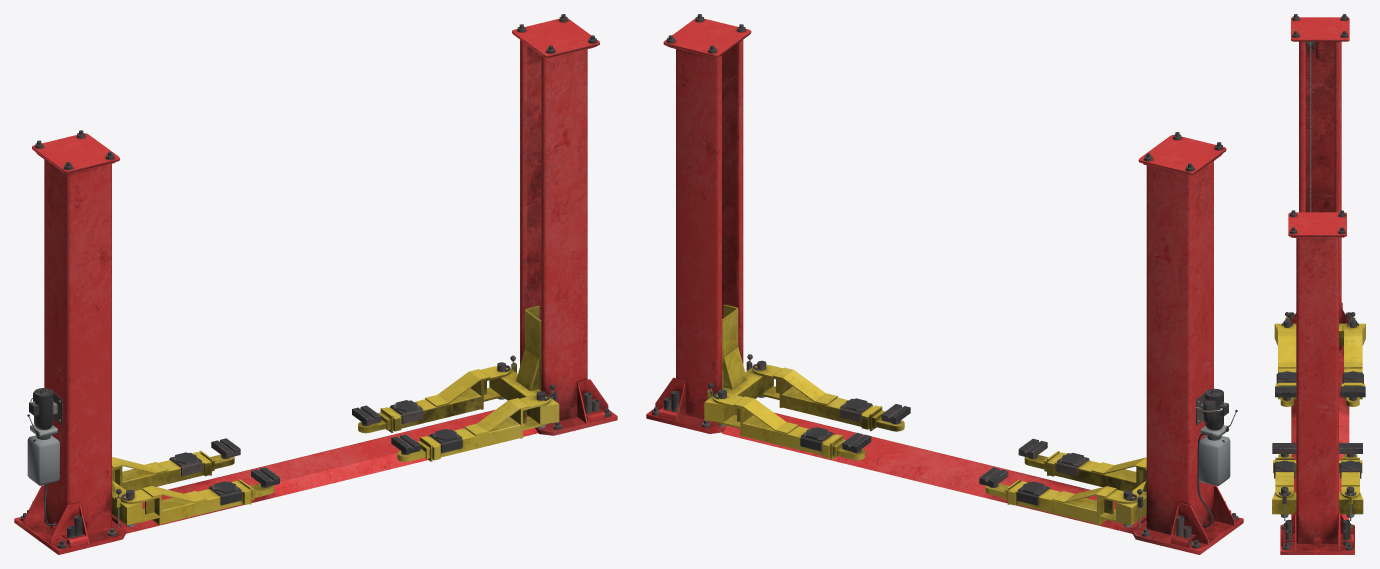
File: CarLift 1.fbx
3 renders of one model, left to right at view 1: azimuth 30°, elevation 25°; view 2: azimuth 150°, elevation 25°; view 3: azimuth 270°, elevation 25°, orthographic. The views are drawn at different scales.
Parts seen in each view (by area): view 1: rack, rack.002, arrival, rack.011, rack.009, rack.005, rack.006, switch, rack.008, rack.004; view 2: rack, rack.002, arrival, rack.009, rack.011, rack.005, rack.008, switch, rack.006, rack.004; view 3: rack.002, rack, rack.008, rack.006, rack.005, arrival, rack.011, rack.009, rack.004, rack.019, rack.013, rack.016 (+1 smaller).
Boxes of the visible parts, left/top/right/bottom form: rack: left=14, top=130, right=126, bottom=554; rack.002: left=512, top=14, right=617, bottom=435; arrival: left=112, top=409, right=537, bottom=533; rack.011: left=420, top=395, right=550, bottom=461; rack.009: left=380, top=366, right=511, bottom=432; rack.005: left=489, top=305, right=559, bottom=428; rack.006: left=120, top=479, right=251, bottom=525; switch: left=27, top=388, right=62, bottom=525; rack.008: left=112, top=450, right=211, bottom=490; rack.004: left=111, top=479, right=142, bottom=527; rack: left=1132, top=132, right=1243, bottom=554; rack.002: left=646, top=14, right=751, bottom=433; arrival: left=722, top=412, right=1146, bottom=533; rack.009: left=712, top=393, right=842, bottom=459; rack.011: left=752, top=364, right=882, bottom=431; rack.005: left=704, top=304, right=773, bottom=426; rack.008: left=1007, top=479, right=1137, bottom=525; switch: left=1195, top=388, right=1230, bottom=526; rack.006: left=1047, top=451, right=1146, bottom=491; rack.004: left=1116, top=479, right=1146, bottom=527; rack.002: left=1280, top=210, right=1354, bottom=554; rack: left=1288, top=14, right=1352, bottom=354; rack.008: left=1341, top=324, right=1364, bottom=399; rack.006: left=1275, top=324, right=1296, bottom=399; rack.005: left=1272, top=486, right=1363, bottom=520; arrival: left=1291, top=352, right=1349, bottom=519; rack.011: left=1273, top=457, right=1296, bottom=514; rack.009: left=1339, top=457, right=1362, bottom=514; rack.004: left=1274, top=312, right=1365, bottom=345; rack.019: left=1340, top=386, right=1365, bottom=397; rack.013: left=1272, top=443, right=1296, bottom=453; rack.016: left=1339, top=443, right=1362, bottom=453.
Size of the model in its own units: 918 by 589 by 157.
